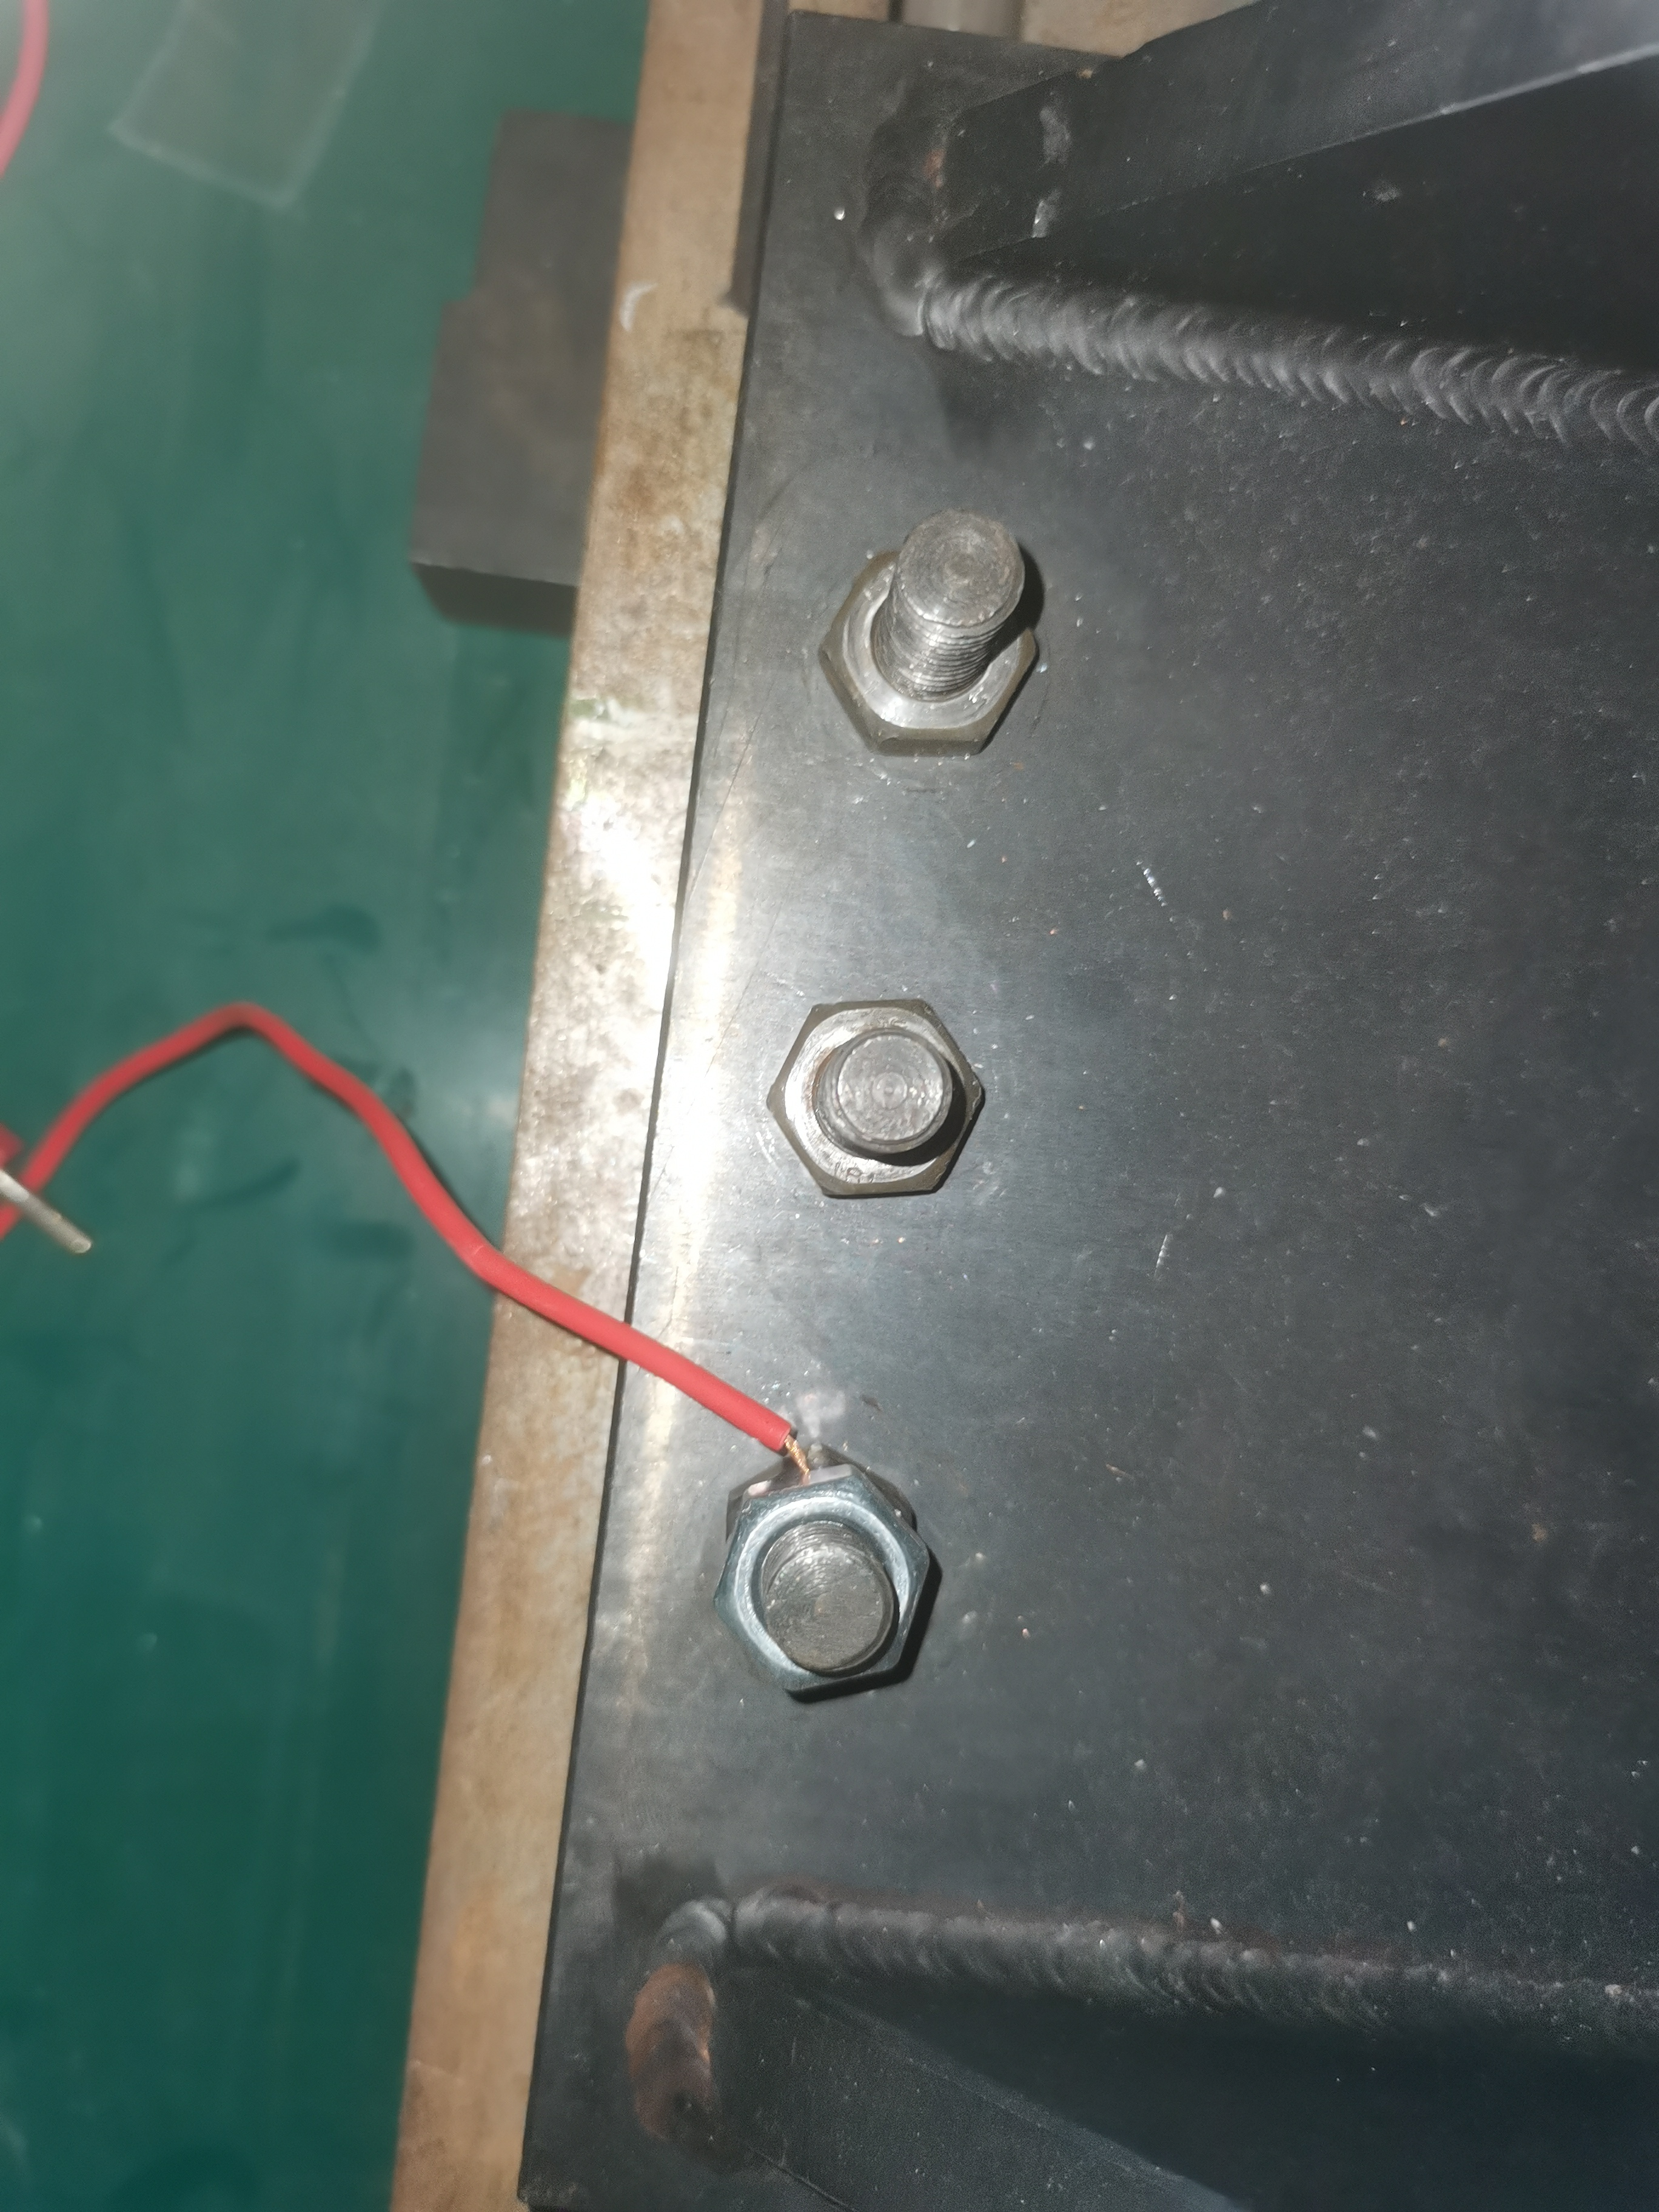bolt_b: (812, 514, 1047, 758), (708, 1465, 939, 1698), (763, 998, 985, 1204)
